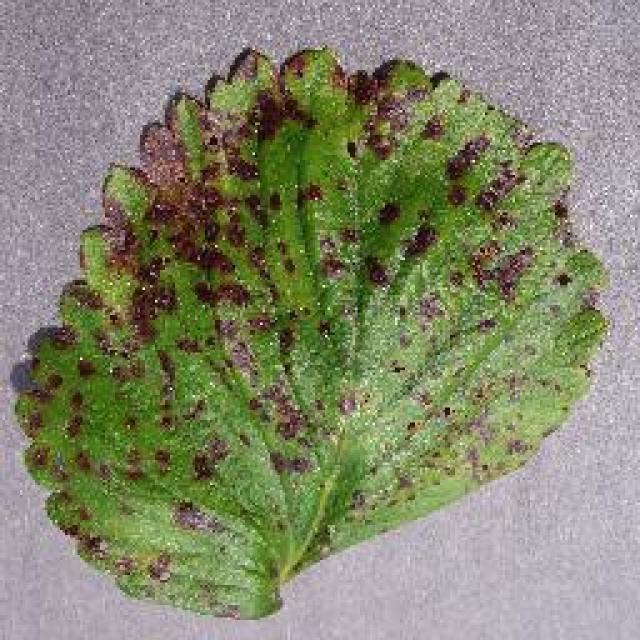Strawberry leaf scorch: (38, 76, 525, 612)
